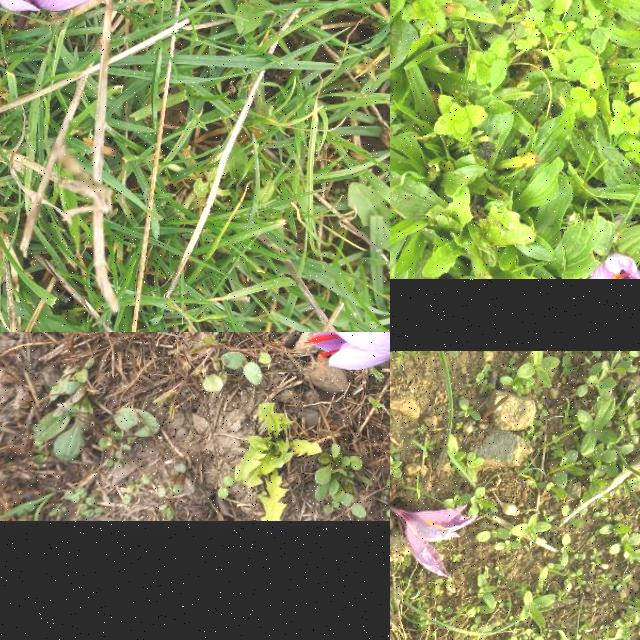flower: (390, 505, 473, 579), (306, 332, 390, 371), (592, 251, 640, 279)
